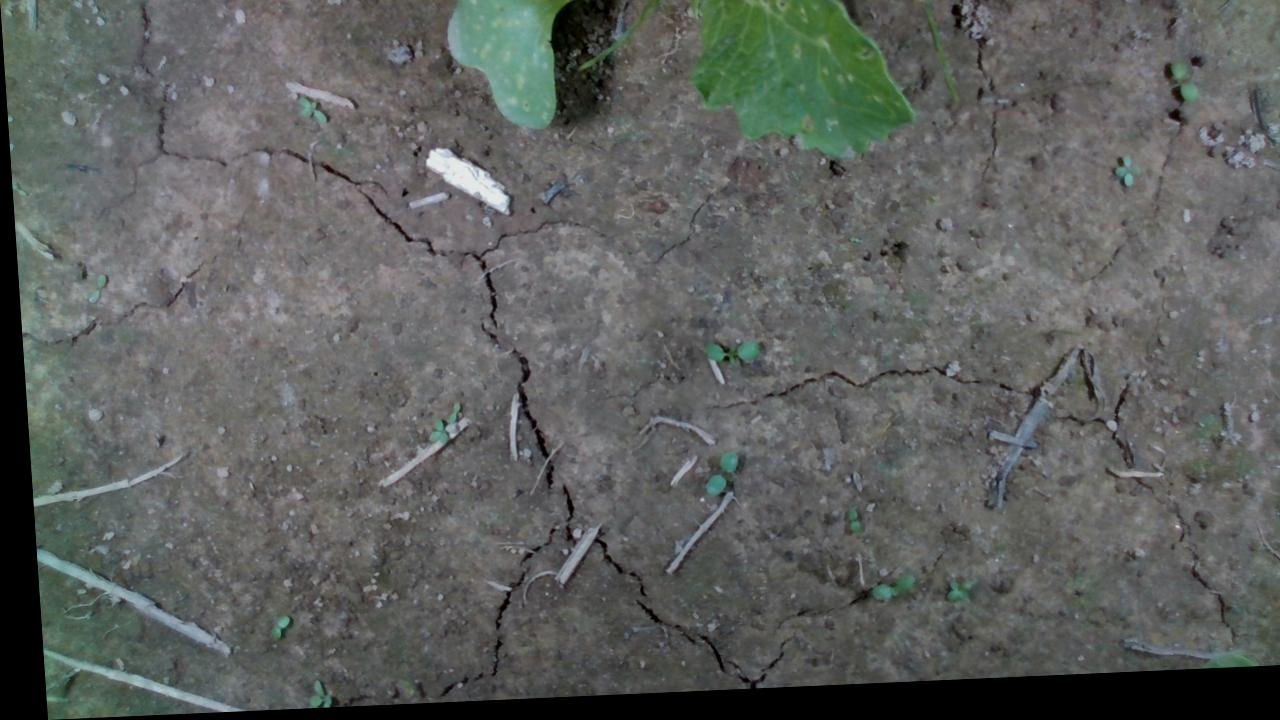weed: (695, 456, 734, 503), (696, 344, 755, 370), (1168, 67, 1198, 113), (860, 580, 906, 609), (1106, 161, 1137, 199), (295, 97, 325, 127), (81, 271, 103, 303), (257, 617, 281, 641), (838, 513, 853, 542), (1271, 511, 1279, 539)
